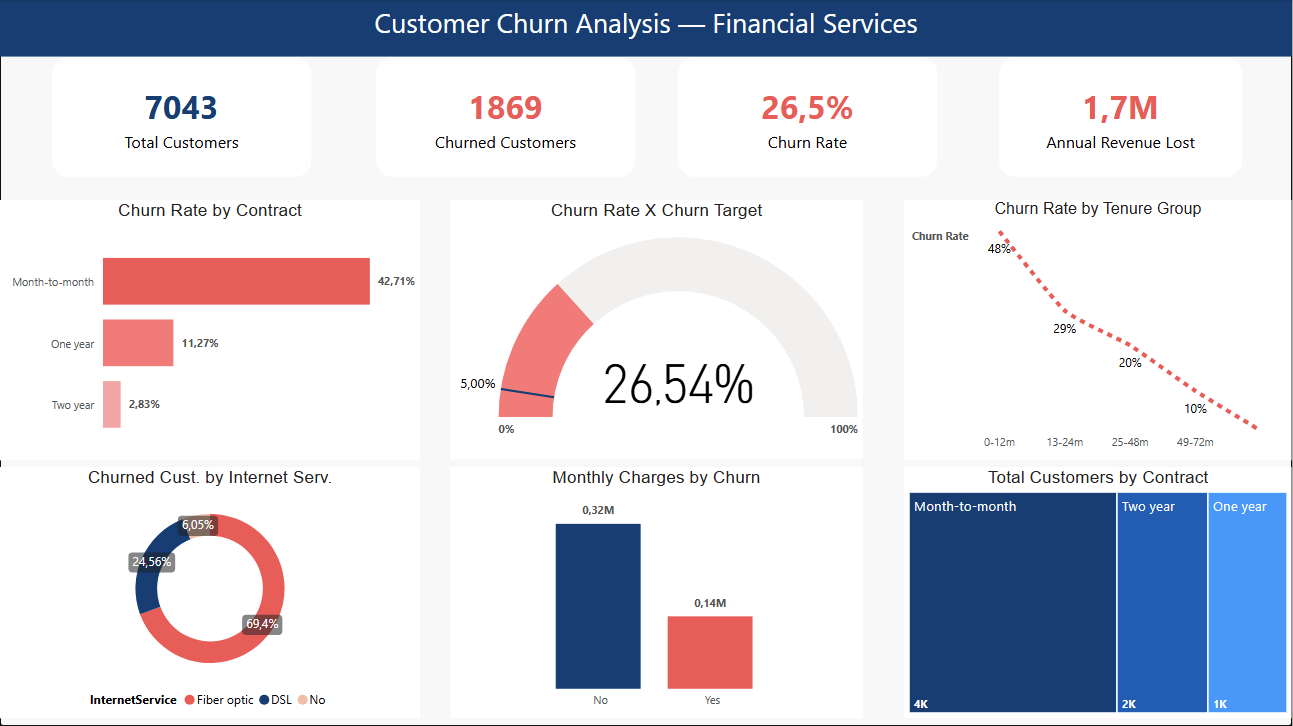

This screenshot's page, from the dashboard's own definition file:
{"tool":"powerbi","page":{"name":"Page 1","canvas":[1280,720],"ordinal":0},"visuals":[{"type":"card","fields":{"Values":["__Measures.Total Customers"]},"box":[51.5,57.5,256.6,118.9],"z":0},{"type":"card","fields":{"Values":["__Measures.Churned Customers"]},"box":[372.5,57.5,256.6,118.9],"z":1000},{"type":"card","fields":{"Values":["__Measures.Churn Rate"]},"box":[671.7,57.5,256.6,118.9],"z":2000},{"type":"card","fields":{"Values":["__Measures.Annual Revenue Lost"]},"box":[989.7,57.5,240.7,118.9],"z":3000},{"type":"clusteredBarChart","fields":{"Category":["churn_clean_br.Contract"],"Y":["__Measures.Churn Rate"]},"box":[0,199.1,416.1,257.6],"z":4000},{"type":"donutChart","title":"Churned Cust. by Internet Serv.","fields":{"Category":["churn_clean_br.InternetService"],"Y":["__Measures.Churned Customers"]},"box":[0,463.7,416.1,248.7],"z":5000},{"type":"lineChart","title":"Churn Rate by Tenure Group","fields":{"Category":["churn_clean_br.Tenure_Group"],"Y":["__Measures.Churn Rate"]},"box":[895.6,199.1,384.4,257.6],"z":6000},{"type":"clusteredColumnChart","title":"Monthly Charges by Churn","fields":{"Category":["churn_clean_br.Churn"],"Y":["Sum(churn_clean_br.MonthlyCharges)"]},"box":[445.8,463.7,409.2,248.7],"z":7000},{"type":"treemap","fields":{"Group":["churn_clean_br.Contract"],"Values":["__Measures.Total Customers"]},"box":[895.6,463.7,384.4,248.7],"z":8000},{"type":"gauge","title":"Churn Rate X Churn Target","fields":{"Y":["__Measures.Churn Rate"],"TargetValue":["__Measures.Churn Target"],"MaxValue":["__Measures.Churn Max"]},"box":[445.8,199.1,409.2,257],"z":9000},{"type":"textbox","box":[0,0,1280,57.5],"z":10000}]}

Visuals, with their boxes in screenshot pixels (x1, y1, x2, y2), scaled from the page's 1280x720 canvas onto the 1293x726 screenshot:
card - __Measures.Total Customers: rect(52, 58, 311, 178)
card - __Measures.Churned Customers: rect(376, 58, 635, 178)
card - __Measures.Churn Rate: rect(679, 58, 938, 178)
card - __Measures.Annual Revenue Lost: rect(1000, 58, 1243, 178)
clusteredBarChart - churn_clean_br.Contract x __Measures.Churn Rate: rect(0, 201, 420, 461)
"Churned Cust. by Internet Serv." donutChart: rect(0, 468, 420, 718)
"Churn Rate by Tenure Group" lineChart: rect(905, 201, 1292, 461)
"Monthly Charges by Churn" clusteredColumnChart: rect(450, 468, 864, 718)
treemap - churn_clean_br.Contract x __Measures.Total Customers: rect(905, 468, 1292, 718)
"Churn Rate X Churn Target" gauge: rect(450, 201, 864, 460)
textbox: rect(0, 0, 1292, 58)
